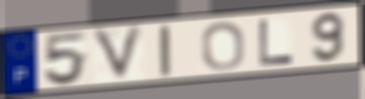5: (41, 30, 90, 86)
9: (309, 10, 347, 63)
I: (156, 23, 174, 79)
L: (257, 18, 296, 67)
O: (200, 20, 247, 72)
V: (89, 23, 148, 85)
